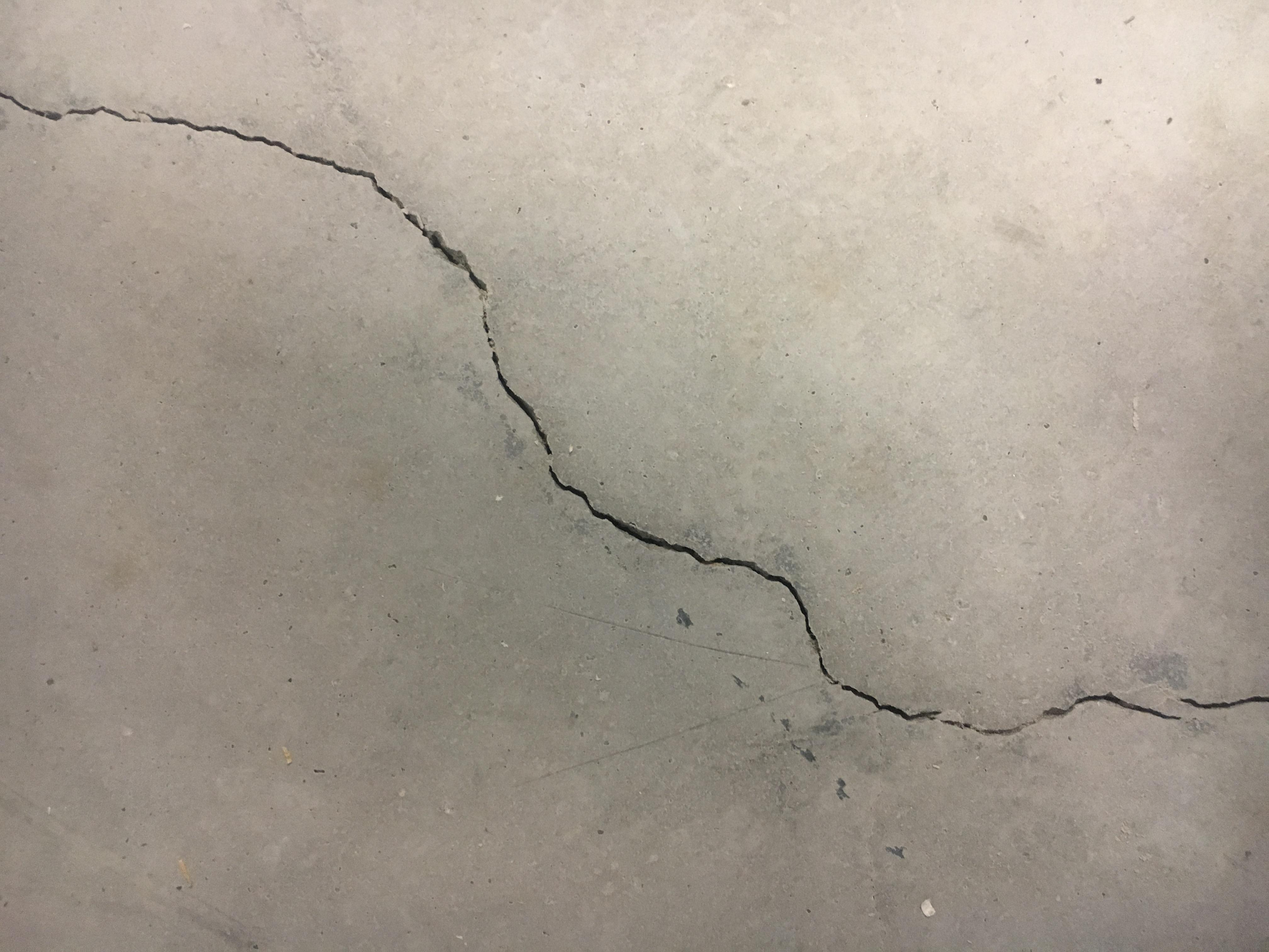Diagonal Crack: (4, 87, 1263, 746)
